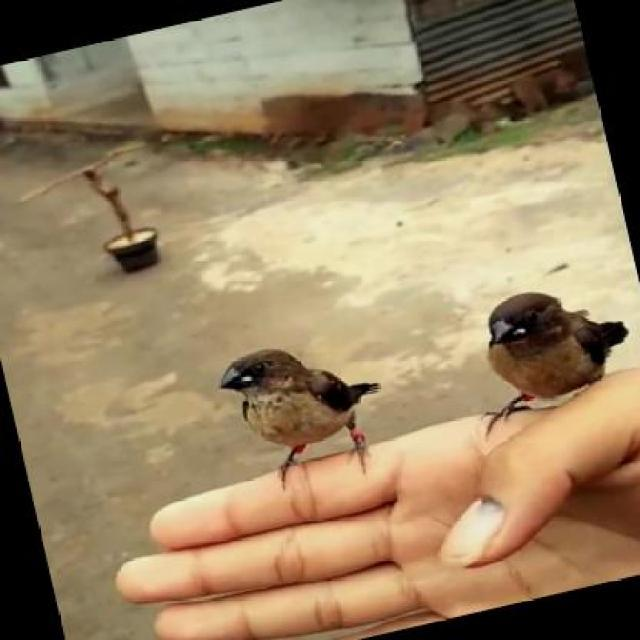Bird: (213, 340, 401, 507), (450, 280, 628, 434)
